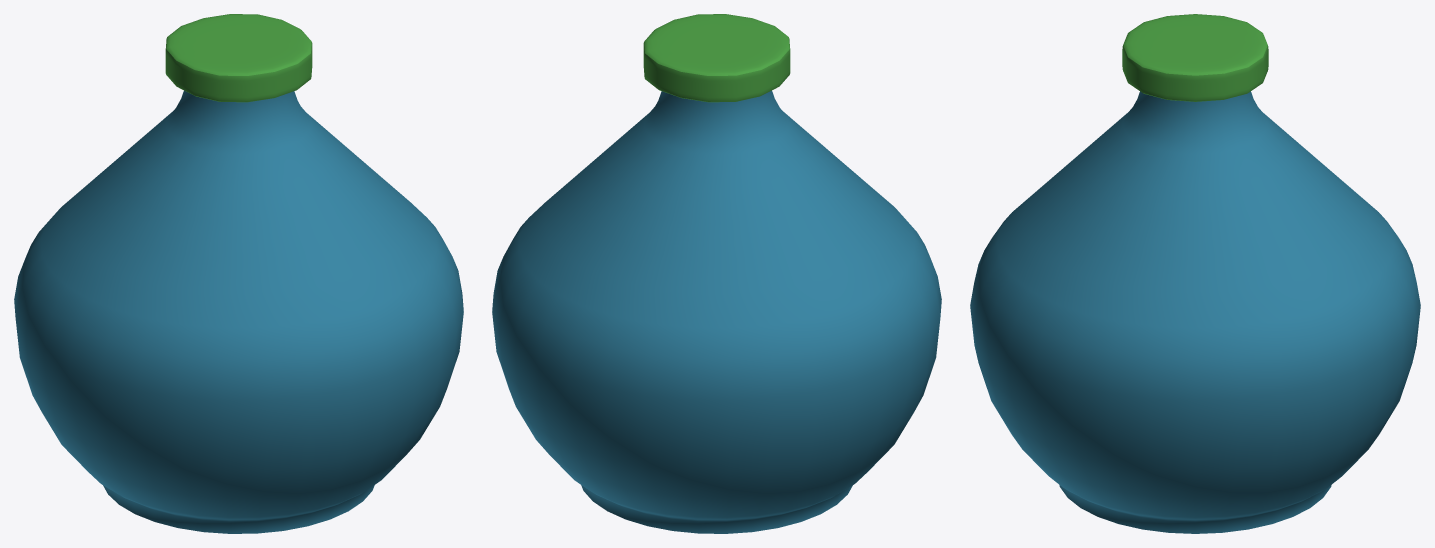
The model's file is PotionBottle_Style_02.fbx.
3 views of the same model, side by side, from view 1: azimuth 30°, elevation 25°; view 2: azimuth 150°, elevation 25°; view 3: azimuth 270°, elevation 25° (orthographic).
Visible parts, largest first — view 1: SetA_PotionBottle_Style_02; view 2: SetA_PotionBottle_Style_02; view 3: SetA_PotionBottle_Style_02.
Part boxes in pixels (x1=…): SetA_PotionBottle_Style_02: x1=14, y1=14, x2=463, y2=533; SetA_PotionBottle_Style_02: x1=492, y1=14, x2=941, y2=533; SetA_PotionBottle_Style_02: x1=970, y1=14, x2=1420, y2=533.
Bounding box in the file's own units: 0.037 × 0.0392 × 0.037.
